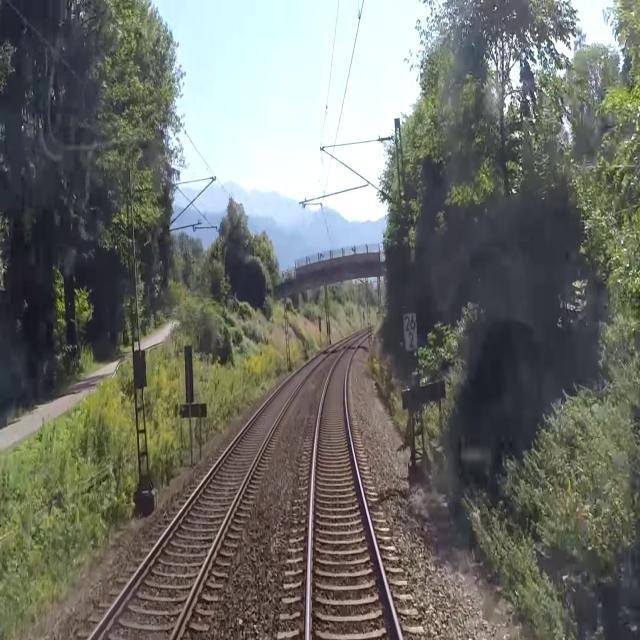rail-track: (93, 356, 320, 639), (312, 338, 398, 639)
